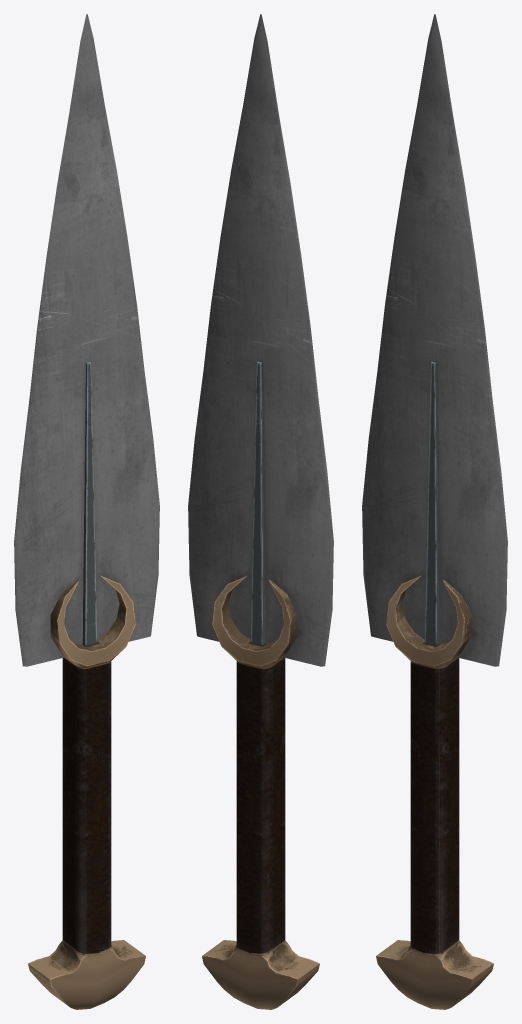
The model's file is uploads_files_3256751_Dagger_1.fbx.
3 views of the same model, side by side, from view 1: azimuth 30°, elevation 25°; view 2: azimuth 150°, elevation 25°; view 3: azimuth 330°, elevation 25° (orthographic).
Parts seen in each view (by area): view 1: Cube.001; view 2: Cube.001; view 3: Cube.001.
Boxes of the visible parts, x1=… form: Cube.001: x1=14, y1=14, x2=159, y2=1009; Cube.001: x1=188, y1=14, x2=333, y2=1009; Cube.001: x1=362, y1=14, x2=507, y2=1009.
Bounding box in the file's own units: 45.03 × 293 × 12.64.
